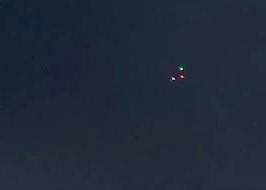Plane: (159, 58, 198, 88)
